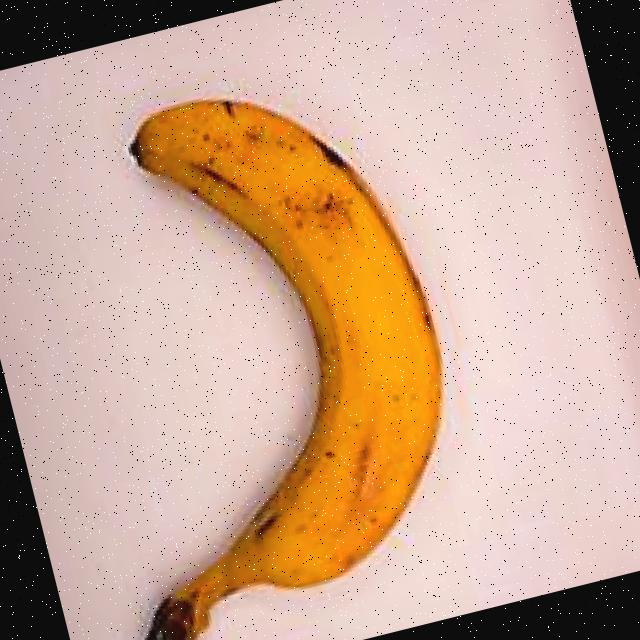Overripe: (0, 26, 529, 640)
